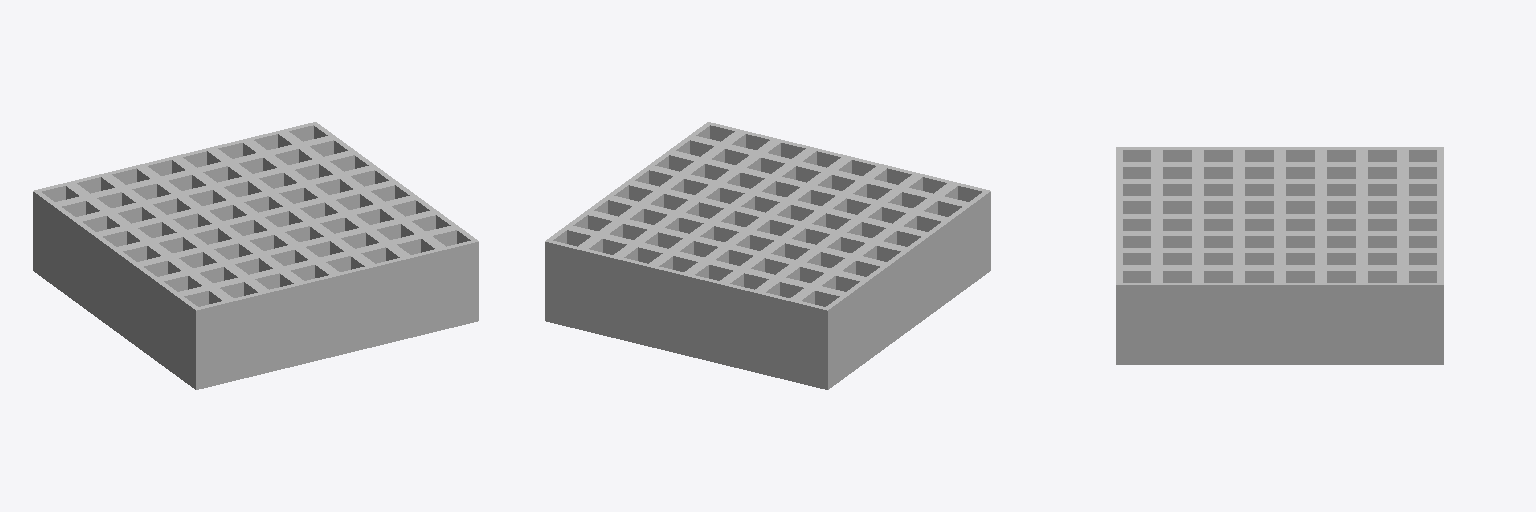
File: RoomMakerParts.obj
3 renders of one model, left to right at view 1: azimuth 30°, elevation 25°; view 2: azimuth 150°, elevation 25°; view 3: azimuth 270°, elevation 25°, orthographic.
Parts seen in each view (by area): view 1: Evaluation_Ground.001; view 2: Evaluation_Ground.001; view 3: Evaluation_Ground.001, WallCorner.
Part boxes in pixels (x1,y1,x2,y2): Evaluation_Ground.001: (33,122,478,389); Evaluation_Ground.001: (545,122,990,389); Evaluation_Ground.001: (1116,147,1443,364); WallCorner: (1403,277,1443,364).
Size of the model in its own units: 8 by 2.15 by 8.